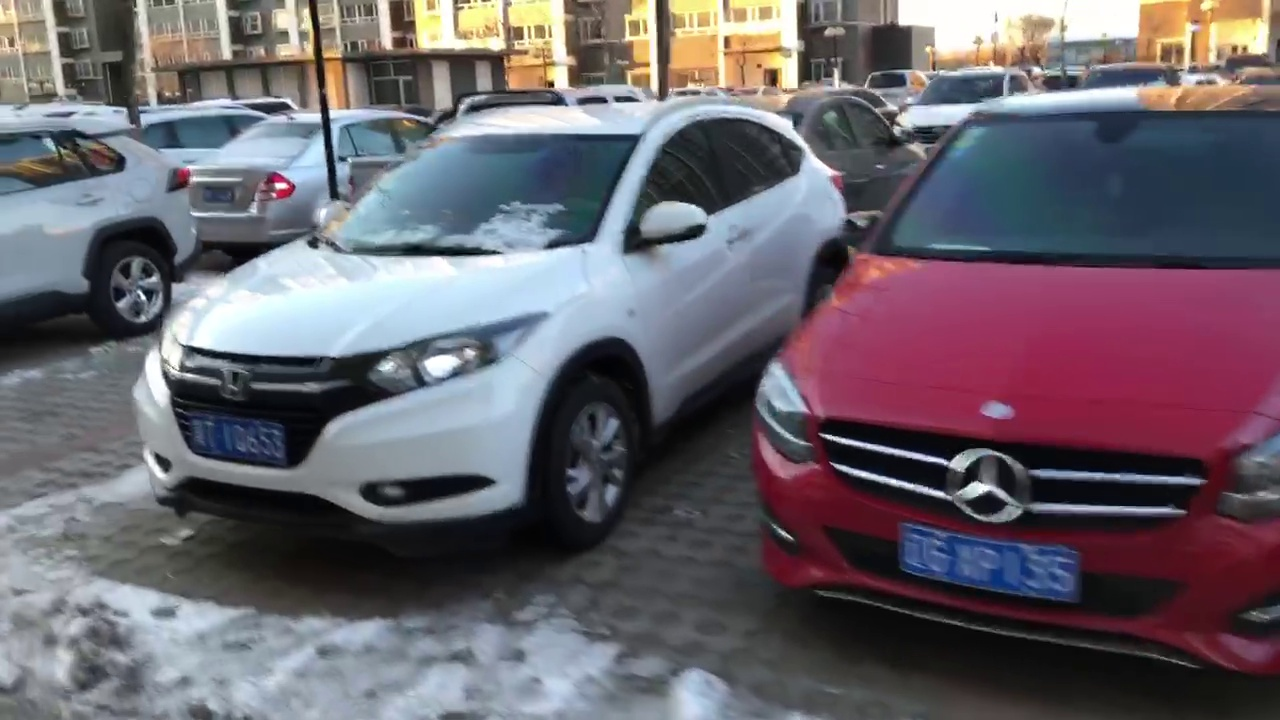plate: (899, 531, 1079, 586), (182, 417, 291, 463), (198, 185, 241, 202)
